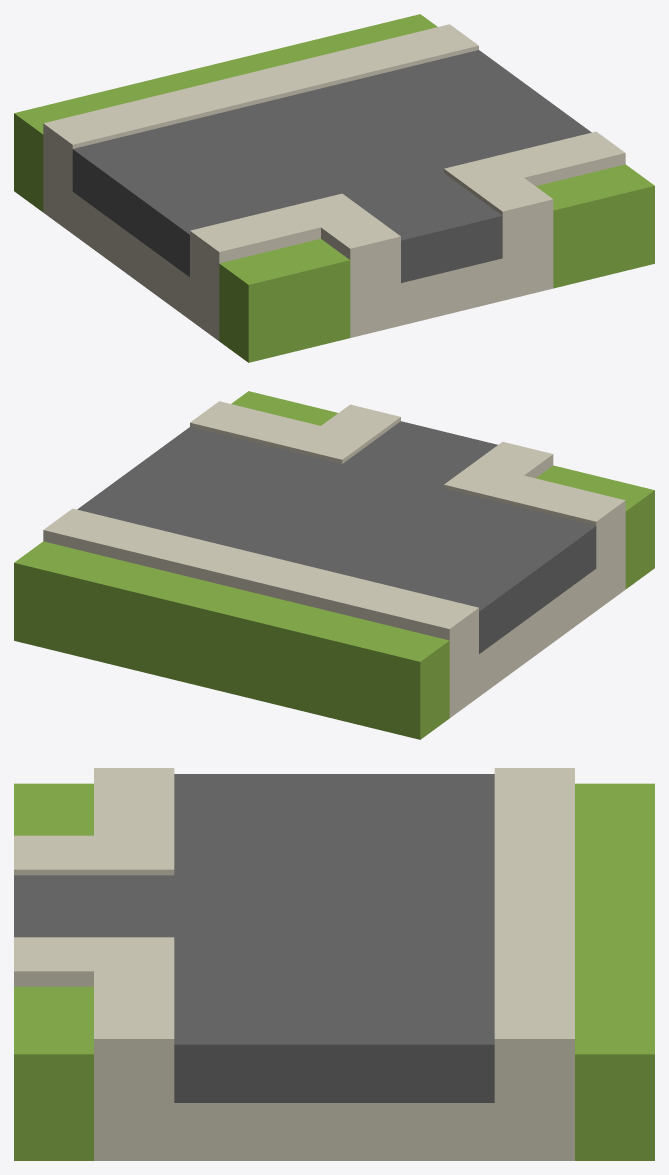
Rendered from roadTile_032.obj.
3 views of the same model, one above another, from view 1: azimuth 30°, elevation 25°; view 2: azimuth 150°, elevation 25°; view 3: azimuth 270°, elevation 25° (orthographic). The views are drawn at different scales.
Parts seen in each view (by area): view 1: roadTile_032; view 2: roadTile_032; view 3: roadTile_032.
Part boxes in pixels (box(x1,y1,x2,y2)): roadTile_032: box(14, 14, 654, 362); roadTile_032: box(14, 391, 654, 739); roadTile_032: box(14, 768, 654, 1160).
Bounding box in the file's own units: 3 × 0.63 × 3.
